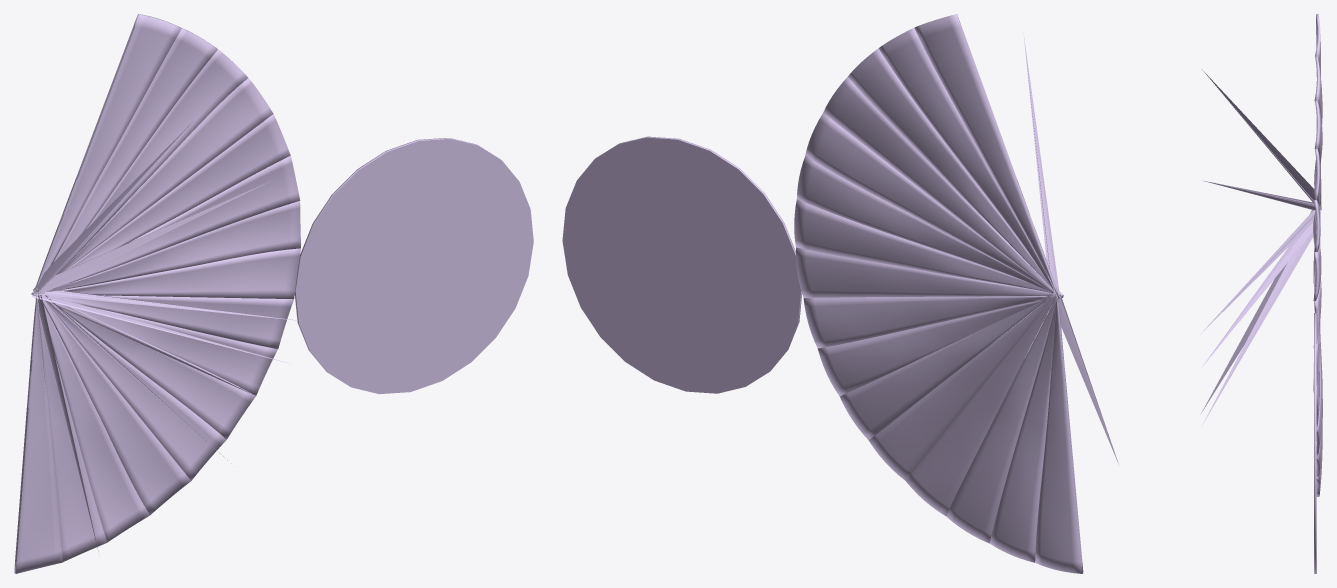
The picture shows the model from 3 angles, left to right: view 1: azimuth 30°, elevation 25°; view 2: azimuth 150°, elevation 25°; view 3: azimuth 270°, elevation 25°; orthographic projection. The views are drawn at different scales.
Parts seen in each view (by area): view 1: 未命名.016, 未命名.015, 未命名.012, 未命名, 未命名.008, 未命名.007, 未命名.003, 未命名.004, 未命名.014, 未命名.009, 未命名.002, 未命名.011 (+5 smaller); view 2: 未命名.016, 未命名.015, 未命名, 未命名.007, 未命名.011, 未命名.004, 未命名.008, 未命名.002, 未命名.003, 未命名.009, 未命名.012, 未命名.013 (+5 smaller); view 3: 未命名.004, 未命名.015, 未命名.007, 未命名.008, 未命名.012, 未命名.016, 未命名, 未命名.006, 未命名.010, 未命名.013, 未命名.014, 未命名.009 (+2 smaller).
Part boxes in pixels (x1,y1,x2,y2): 未命名.016: [294, 138, 533, 394]; 未命名.015: [33, 14, 192, 292]; 未命名.012: [32, 78, 273, 296]; 未命名: [14, 289, 98, 573]; 未命名.008: [32, 248, 300, 320]; 未命名.007: [32, 294, 293, 363]; 未命名.003: [33, 289, 190, 514]; 未命名.004: [35, 287, 231, 480]; 未命名.014: [38, 27, 217, 290]; 未命名.009: [33, 201, 300, 293]; 未命名.002: [33, 288, 149, 542]; 未命名.011: [32, 114, 290, 294]; 未命名.016: [562, 136, 802, 393]; 未命名.015: [914, 14, 1059, 298]; 未命名: [1035, 296, 1118, 573]; 未命名.007: [803, 295, 1063, 348]; 未命名.011: [805, 113, 1062, 295]; 未命名.004: [869, 289, 1058, 480]; 未命名.008: [796, 247, 1061, 297]; 未命名.002: [946, 289, 1059, 543]; 未命名.003: [906, 292, 1060, 515]; 未命名.009: [794, 199, 1060, 295]; 未命名.012: [823, 77, 1060, 298]; 未命名.013: [848, 48, 1055, 294]; 未命名.004: [1201, 210, 1320, 491]; 未命名.015: [1202, 14, 1321, 210]; 未命名.007: [1201, 223, 1319, 427]; 未命名.008: [1200, 210, 1319, 389]; 未命名.012: [1203, 148, 1320, 210]; 未命名.016: [1314, 313, 1316, 573]; 未命名: [1200, 210, 1313, 457]; 未命名.006: [1314, 250, 1322, 456]; 未命名.010: [1313, 211, 1321, 301]; 未命名.013: [1314, 100, 1322, 195]; 未命名.014: [1314, 56, 1322, 184]; 未命名.009: [1313, 265, 1321, 346].
Bounding box in the file's own units: 5.55 × 5.39 × 1.36.
